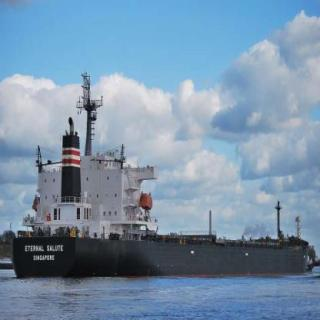Bulk Carrier: (0, 97, 308, 282)
